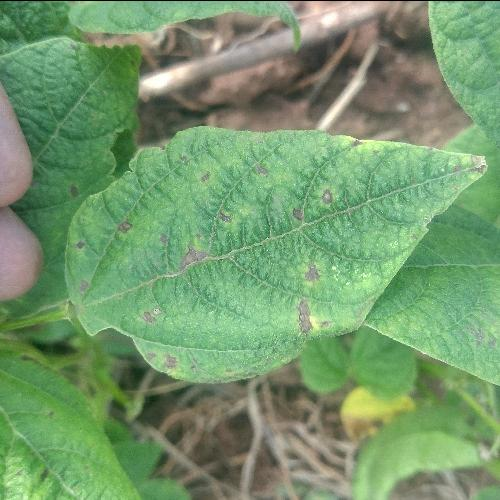hawar: (140, 344, 204, 374), (176, 242, 218, 275), (108, 218, 148, 248), (290, 300, 322, 334), (136, 301, 172, 325), (303, 256, 335, 277), (77, 270, 95, 303), (188, 163, 215, 184), (216, 206, 239, 230), (291, 208, 312, 228), (246, 160, 276, 172), (325, 188, 337, 202)
